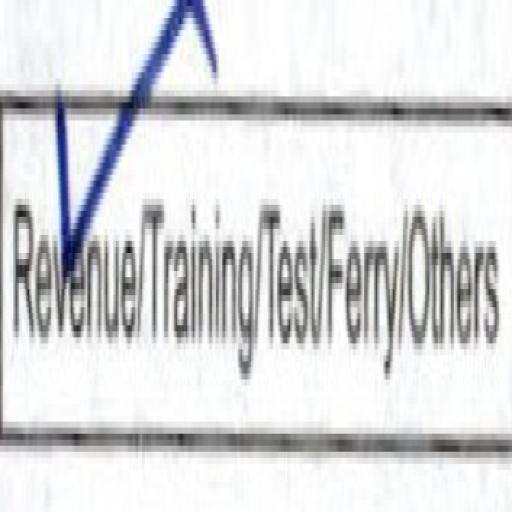check: (0, 10, 142, 440)
